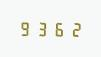nine: (18, 19, 33, 36)
six: (50, 20, 65, 37)
three: (34, 19, 49, 36)
two: (66, 20, 81, 37)
